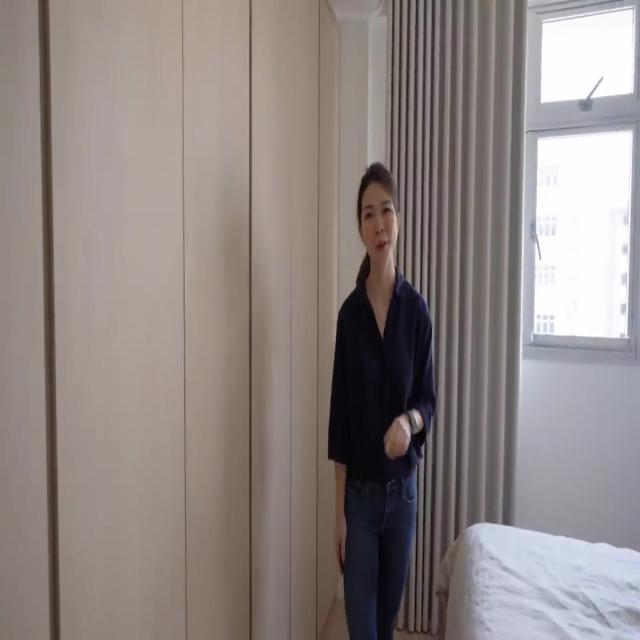obstacle: (435, 520, 639, 638)
person: (327, 161, 437, 639)
